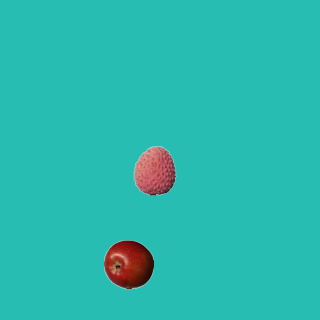Apple Braeburn: (103, 239, 153, 289)
Lychee: (129, 145, 179, 195)
